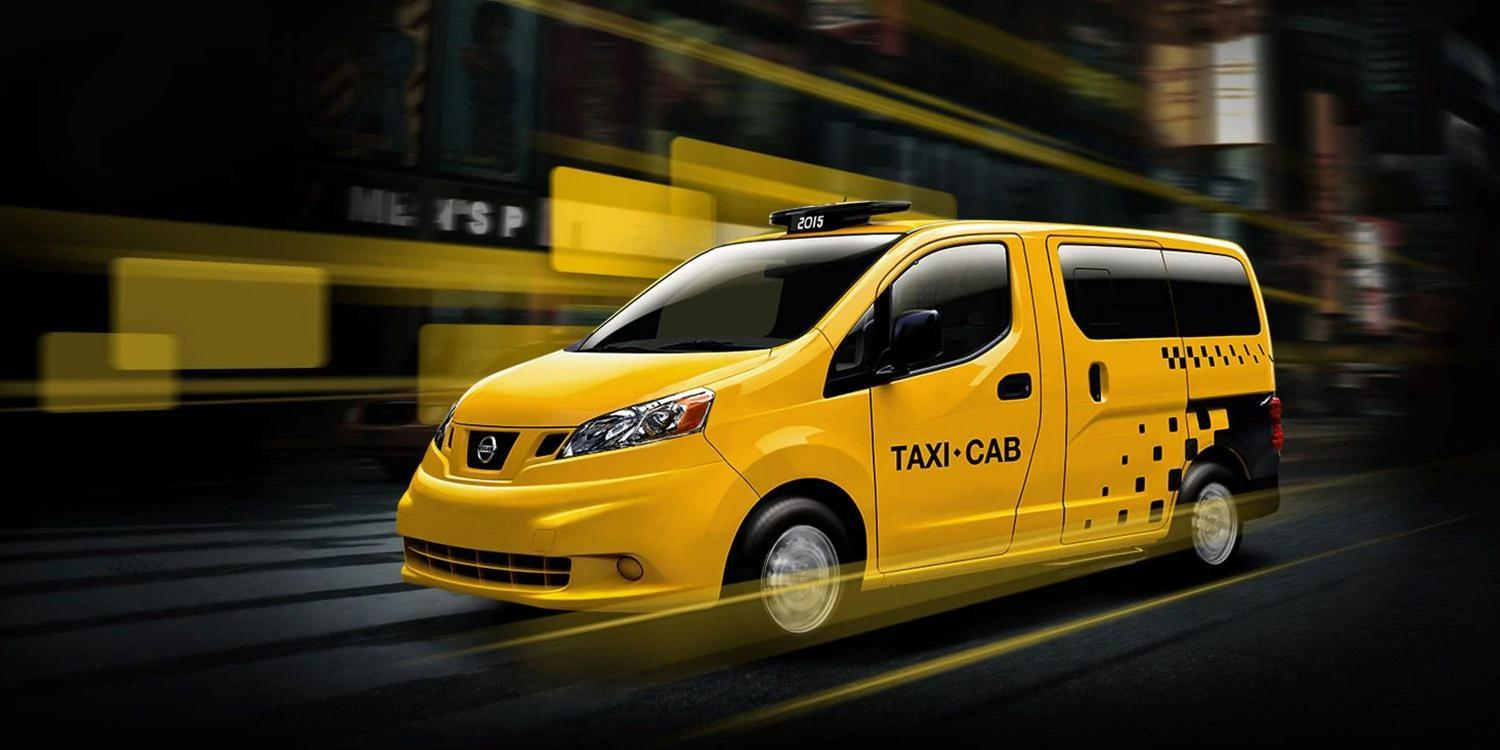taxi: (364, 164, 1304, 605)
